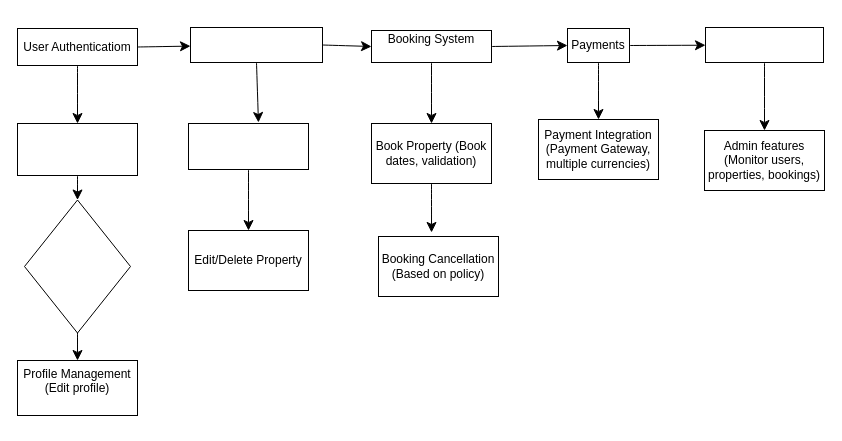
Image size: 842x441. Some labels were removed from this diagram. The box of each missing label's shape, as (x1, y1, x2, y2) in pixels:
Add Property (Create listing): (188, 122, 308, 170)
Admin Dashboard: (704, 26, 824, 62)
Property Management: (190, 26, 322, 62)
User Login (Email, password, OAuth): (24, 199, 130, 333)
User Registration (Guest/Host sign-up): (16, 122, 138, 176)
